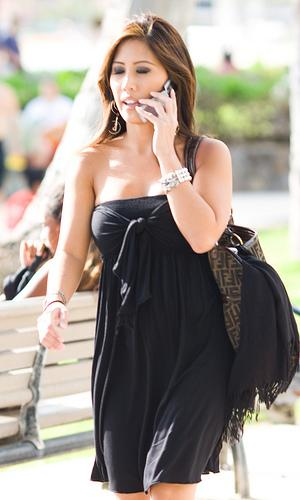person: (38, 17, 299, 500)
